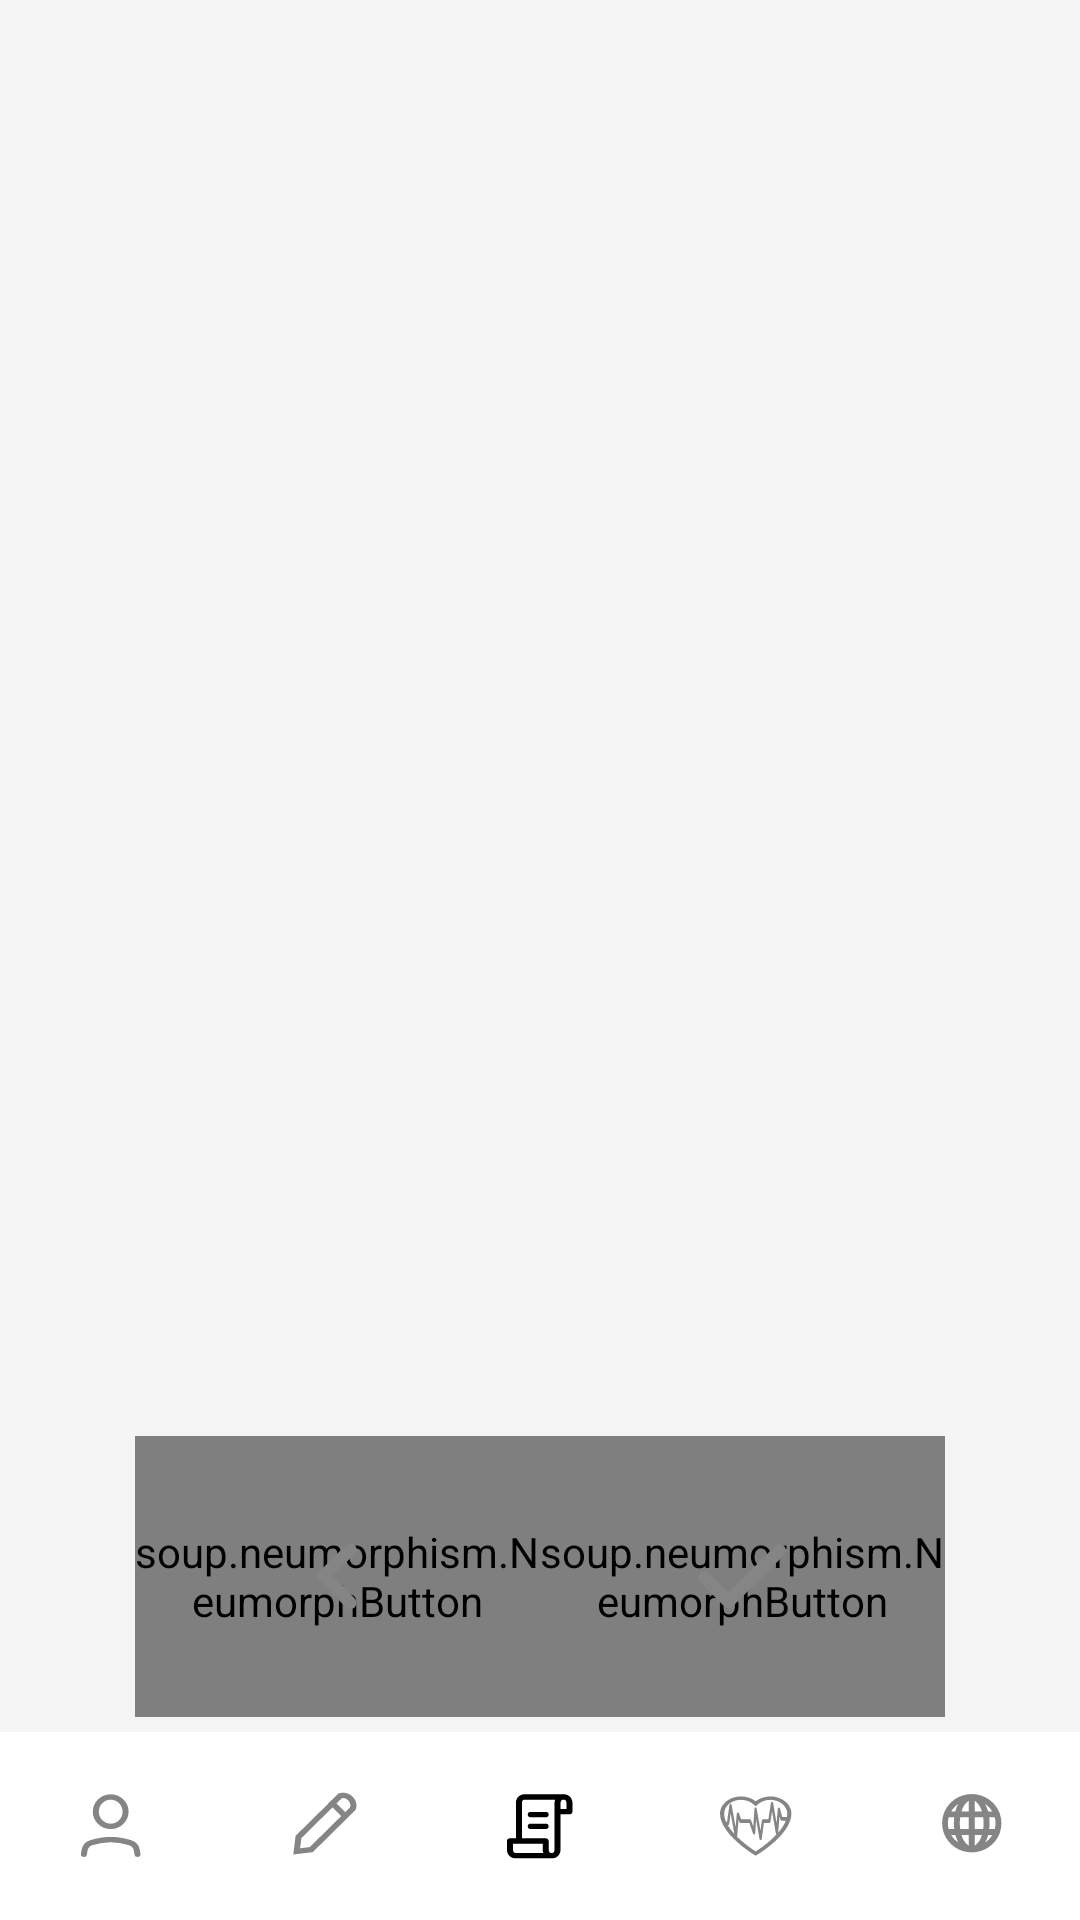

Icon bounding boxes for this 1080×1920 phone screenshot, format (x1, y1, x2, y2):
edit: (293, 1792, 357, 1855)
heart: (720, 1796, 792, 1856)
profile: (81, 1794, 141, 1857)
scroll: (507, 1794, 573, 1859)
